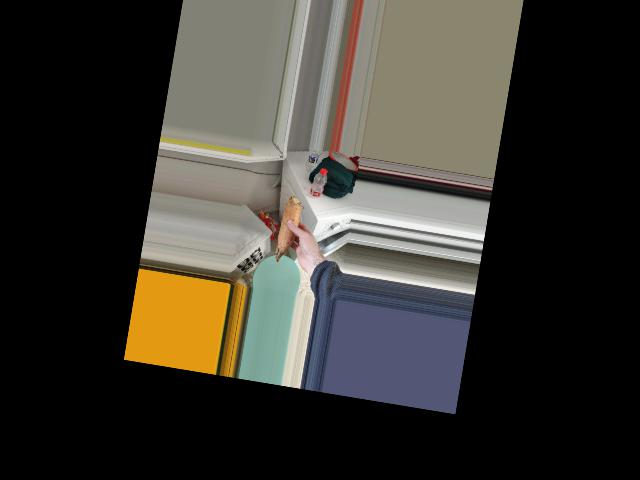sweet_potato: (269, 191, 308, 266)
